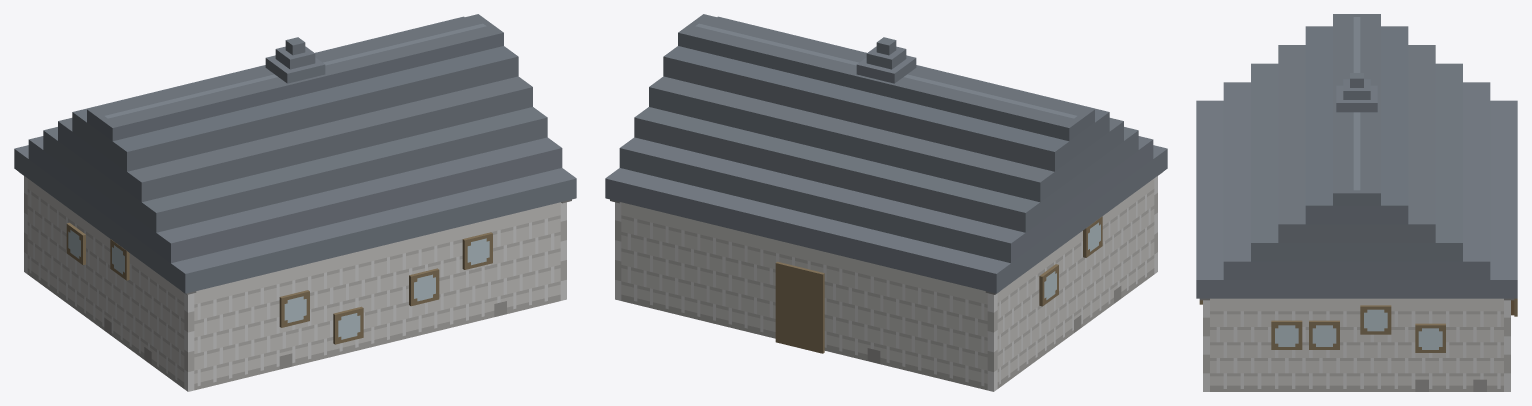
Rendered from mausoleo_01.glb.
The picture shows the model from 3 angles, left to right: view 1: azimuth 30°, elevation 25°; view 2: azimuth 150°, elevation 25°; view 3: azimuth 270°, elevation 25°; orthographic projection. The views are drawn at different scales.
Visible parts, largest first — view 1: mausoleo_01; view 2: mausoleo_01; view 3: mausoleo_01.
Boxes of the visible parts, x1=… form: mausoleo_01: x1=14, y1=14, x2=576, y2=391; mausoleo_01: x1=605, y1=14, x2=1167, y2=391; mausoleo_01: x1=1196, y1=14, x2=1517, y2=391.
Size of the model in its own units: 12.4 by 7.4 by 9.4.
